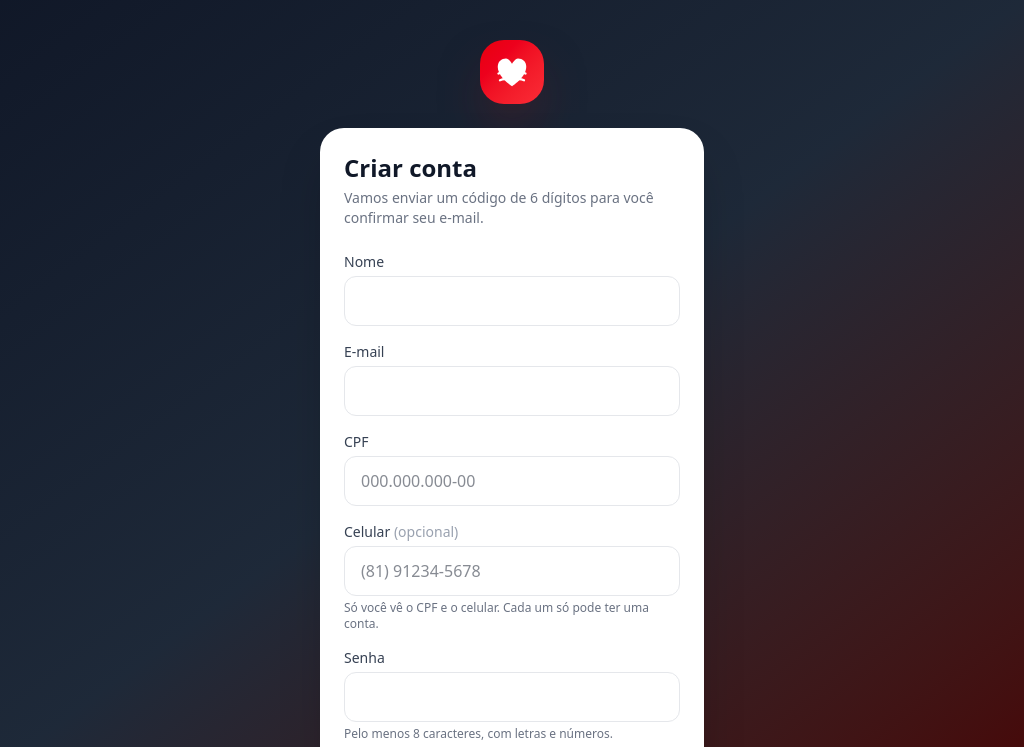
SignupPage › diz o que já tem conta e oferece recuperar a senha
Type "Ana" into the field labelled "Nome" at (512, 301), box [344, 276, 680, 326]
Type "ana@example.com" into the field labelled "E-mail" at (512, 391), box [344, 366, 680, 416]
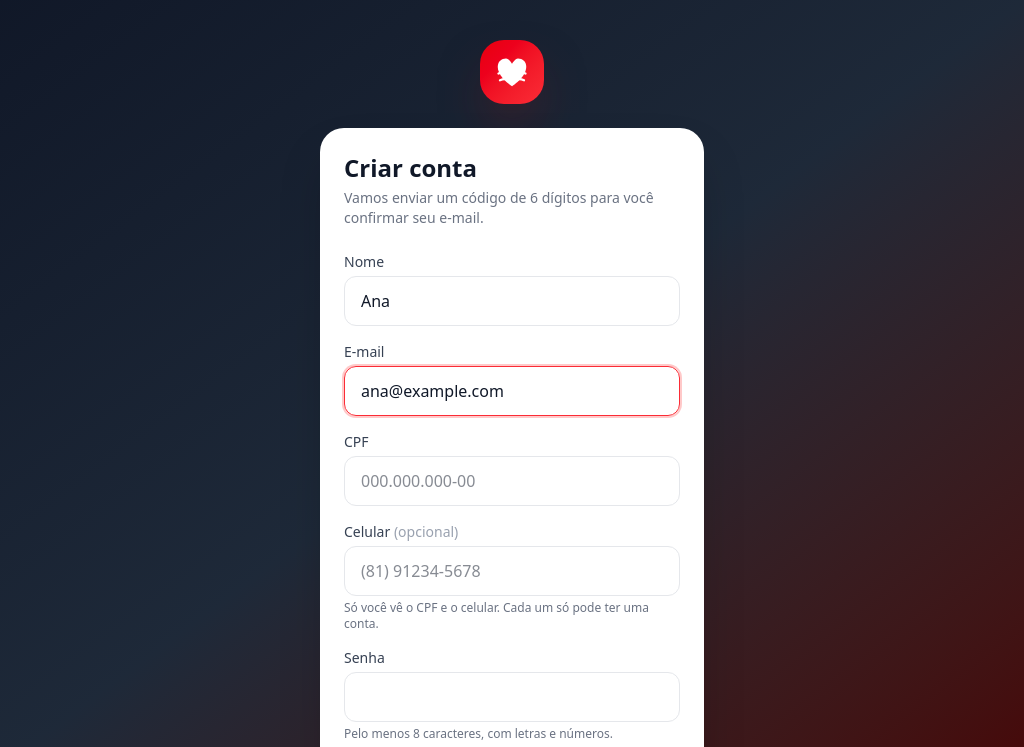
Type "52998224725" into the field labelled "CPF" at (512, 481), box [344, 456, 680, 506]
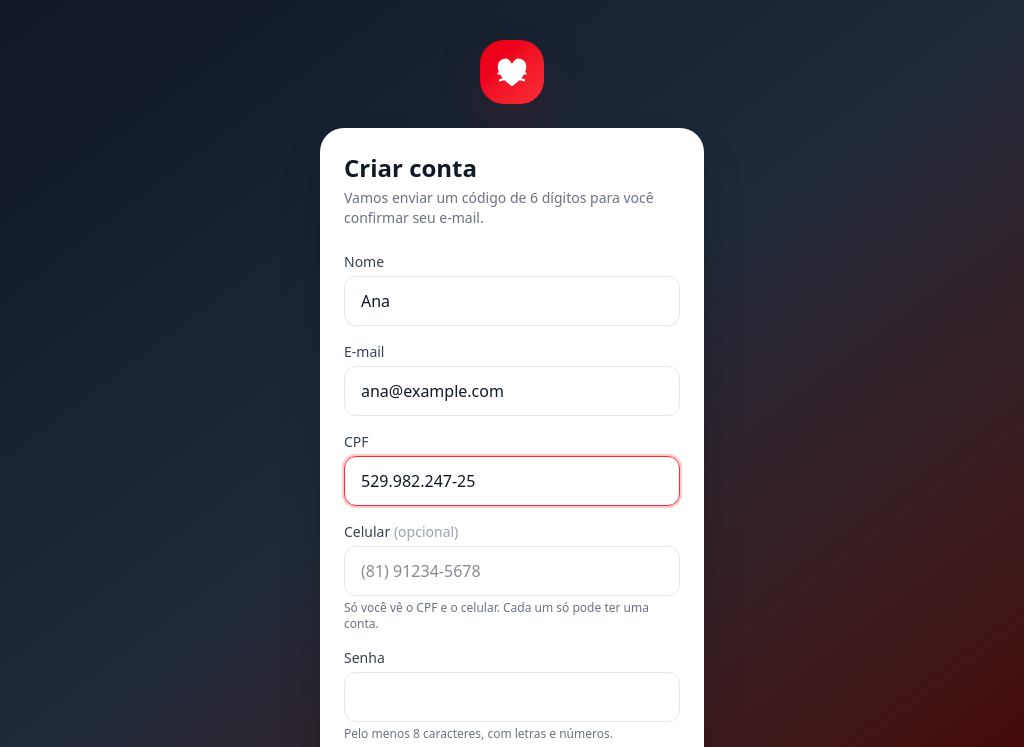
Type "81912345678" into the field labelled "Celular (opcional)" at (512, 571), box [344, 546, 680, 596]
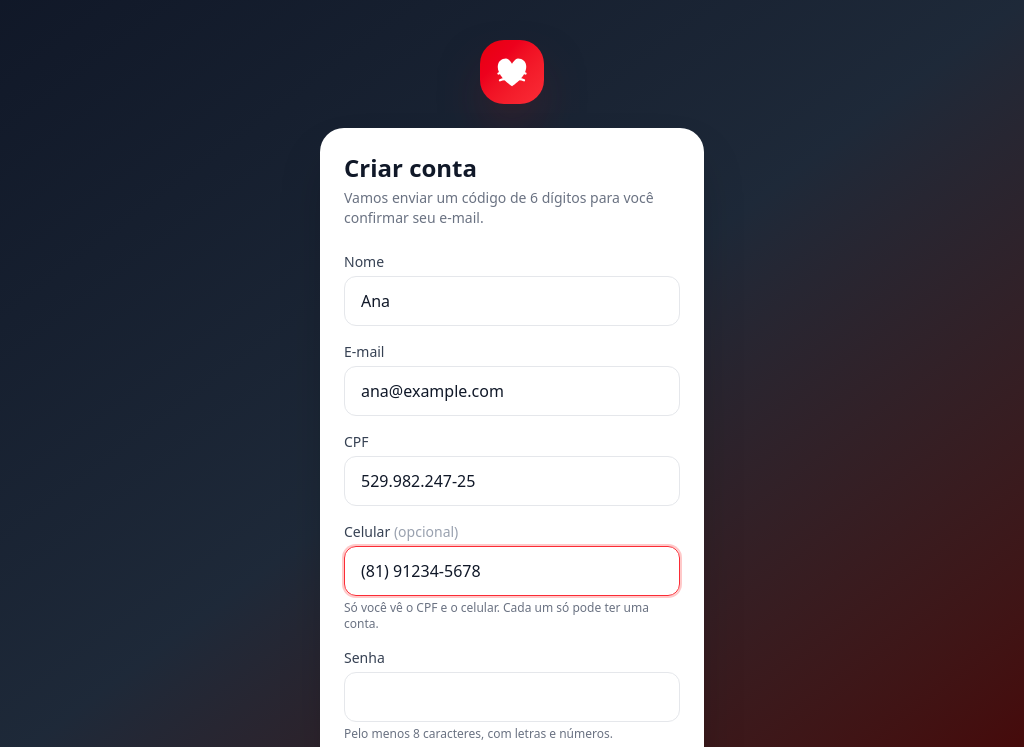
Type "frevo2026" into the password field labelled "Senha" at (512, 697), box [344, 672, 680, 722]
(page scrolled)
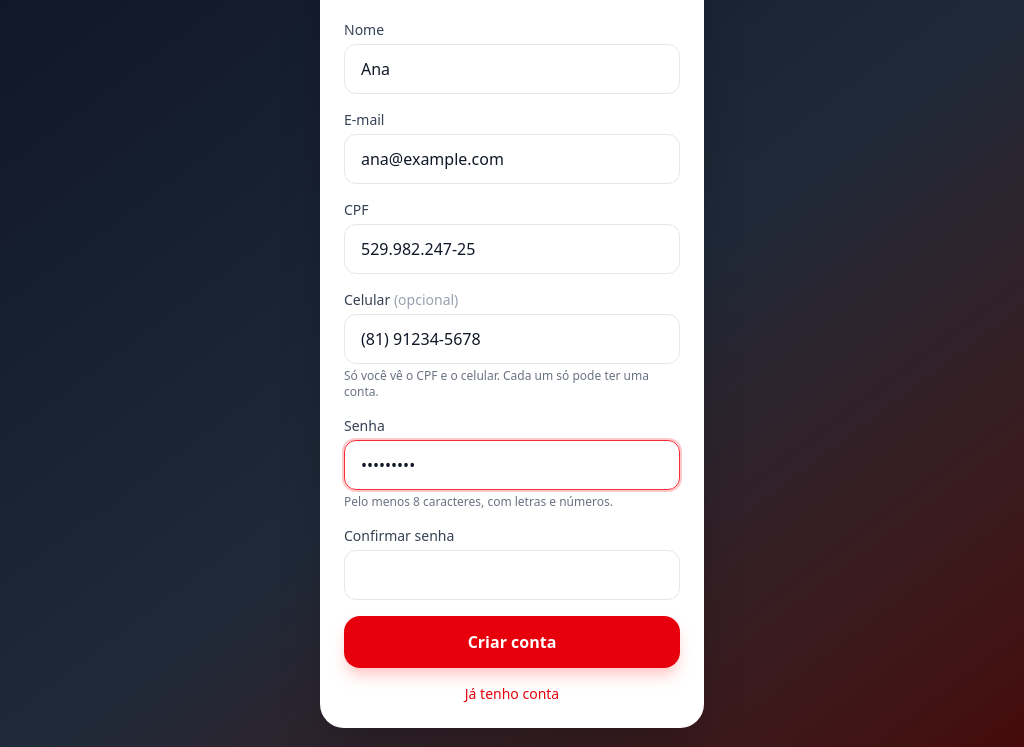
Type "frevo2026" into the password field labelled "Confirmar senha" at (512, 575), box [344, 550, 680, 600]
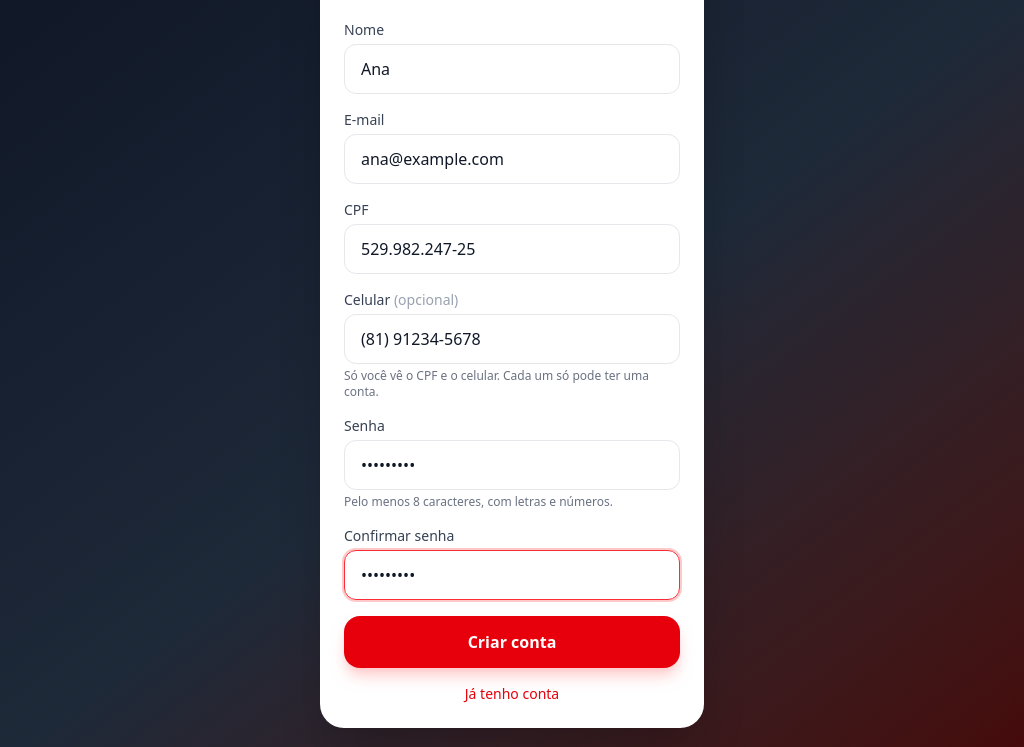
Click the button "Criar conta" at (512, 642), box [344, 616, 680, 668]
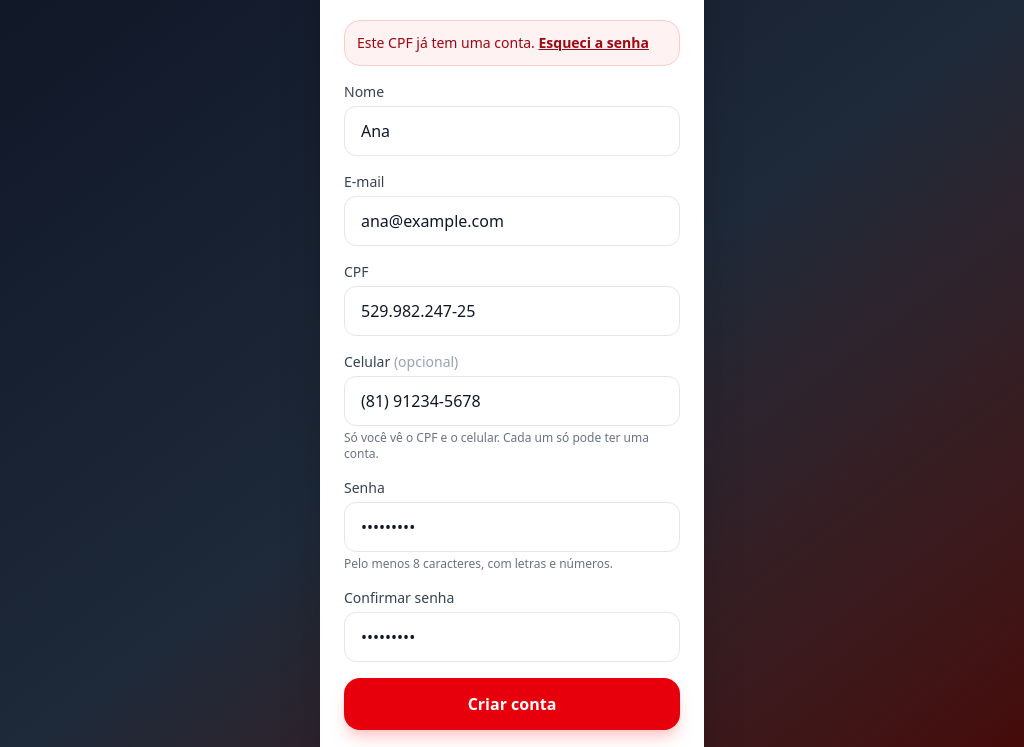
Now the text "Este CPF já tem uma conta." is shown, box [357, 33, 535, 52]
